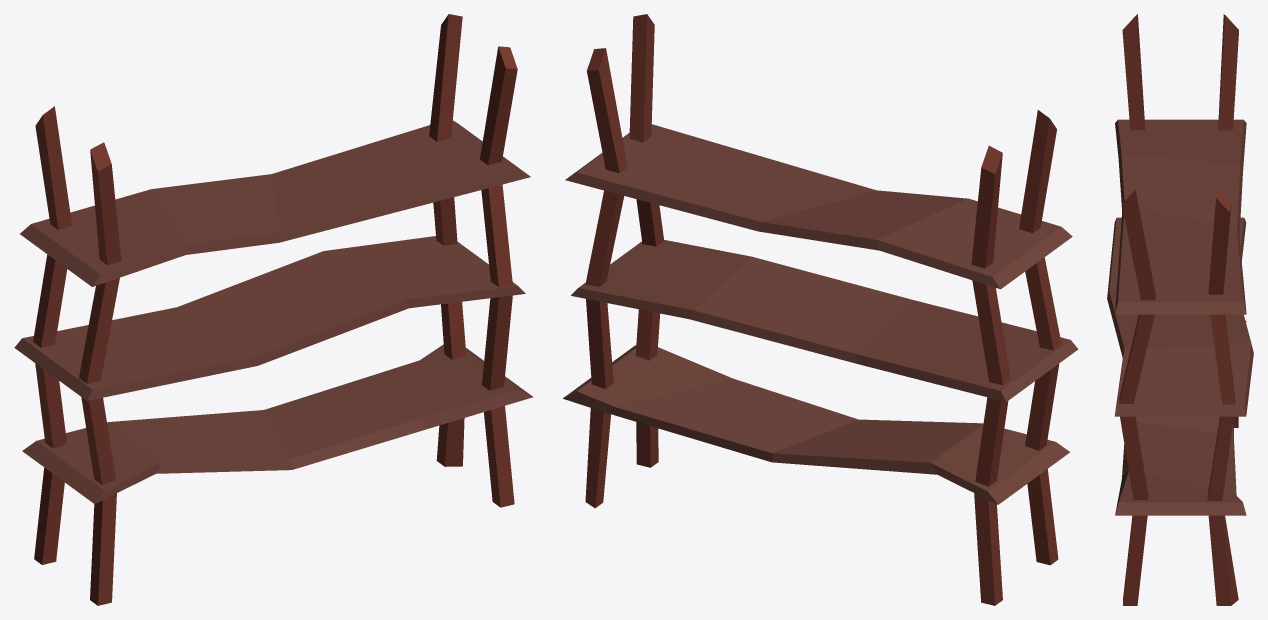
Rendered from Shelf_4_Red.fbx.
The picture shows the model from 3 angles, left to right: view 1: azimuth 30°, elevation 25°; view 2: azimuth 150°, elevation 25°; view 3: azimuth 270°, elevation 25°; orthographic projection. The views are drawn at different scales.
Parts seen in each view (by area): view 1: Shelf_4_Red_Part_2, Shelf_4_Red_Part_1; view 2: Shelf_4_Red_Part_2, Shelf_4_Red_Part_1; view 3: Shelf_4_Red_Part_2, Shelf_4_Red_Part_1.
Part boxes in pixels (x1,y1,x2,y2): Shelf_4_Red_Part_2: (14, 120, 533, 503); Shelf_4_Red_Part_1: (33, 14, 517, 605); Shelf_4_Red_Part_2: (563, 124, 1078, 504); Shelf_4_Red_Part_1: (585, 14, 1061, 605); Shelf_4_Red_Part_2: (1107, 119, 1253, 515); Shelf_4_Red_Part_1: (1119, 14, 1238, 605).
Size of the model in its own units: 160 by 156 by 50.18.
